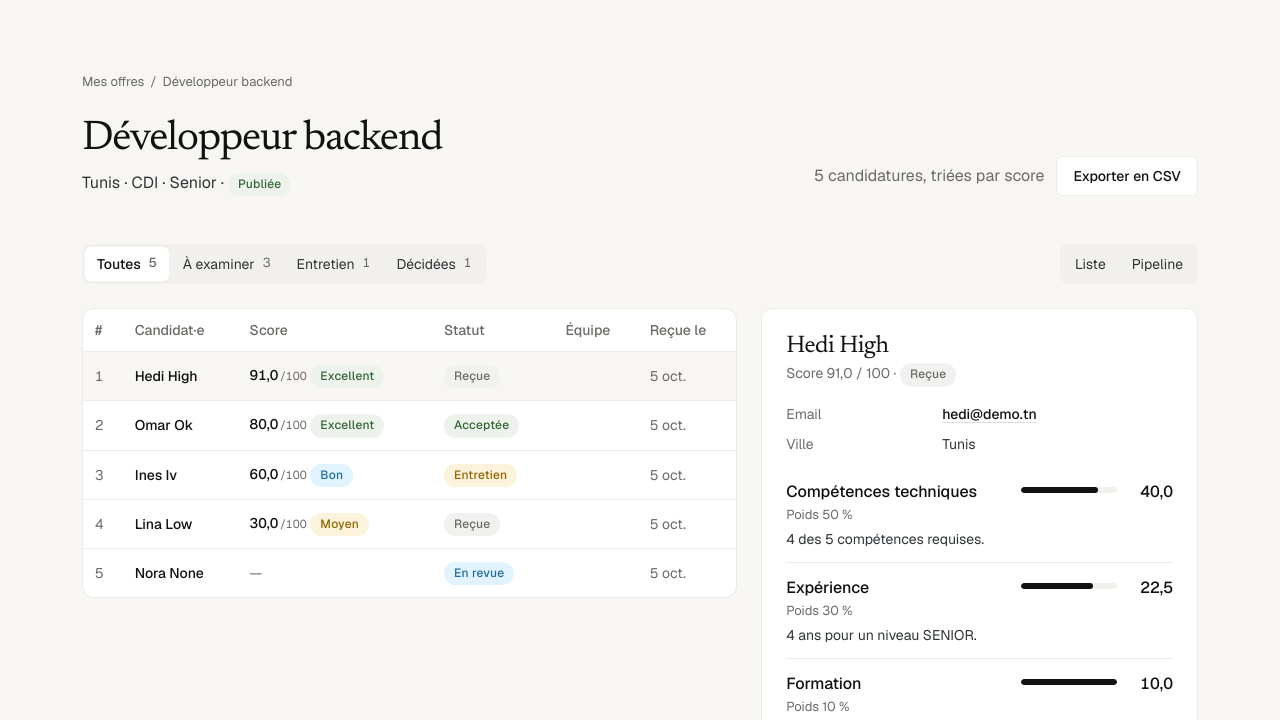
Test: received applications ranking › filters by category and shows the counts
Expected: the table is shown, [83, 309, 736, 597]
Expected: the tab "Toutes 5" is shown, [85, 247, 169, 281]
Click the tab "Décidées 1": (434, 264) [384, 247, 484, 281]
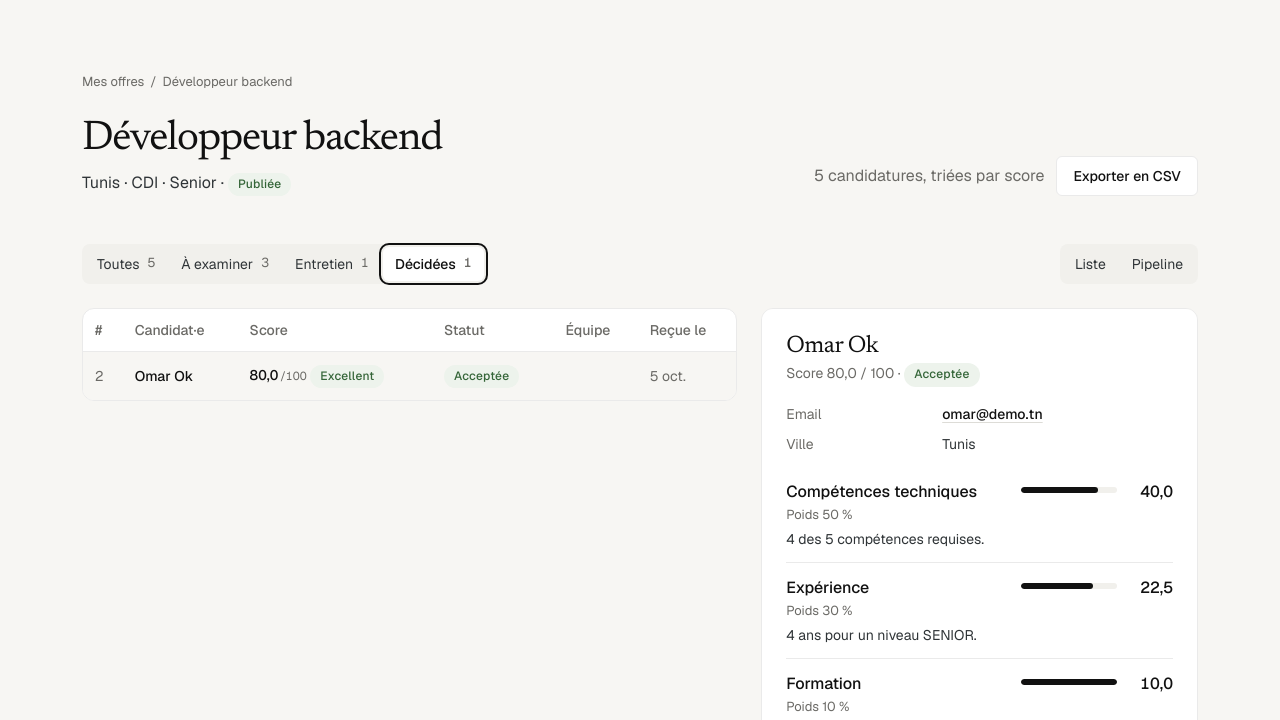
Expected: the text "Omar Ok" is shown, [135, 367, 193, 385]
Expected: the text "Hedi High" is gone
